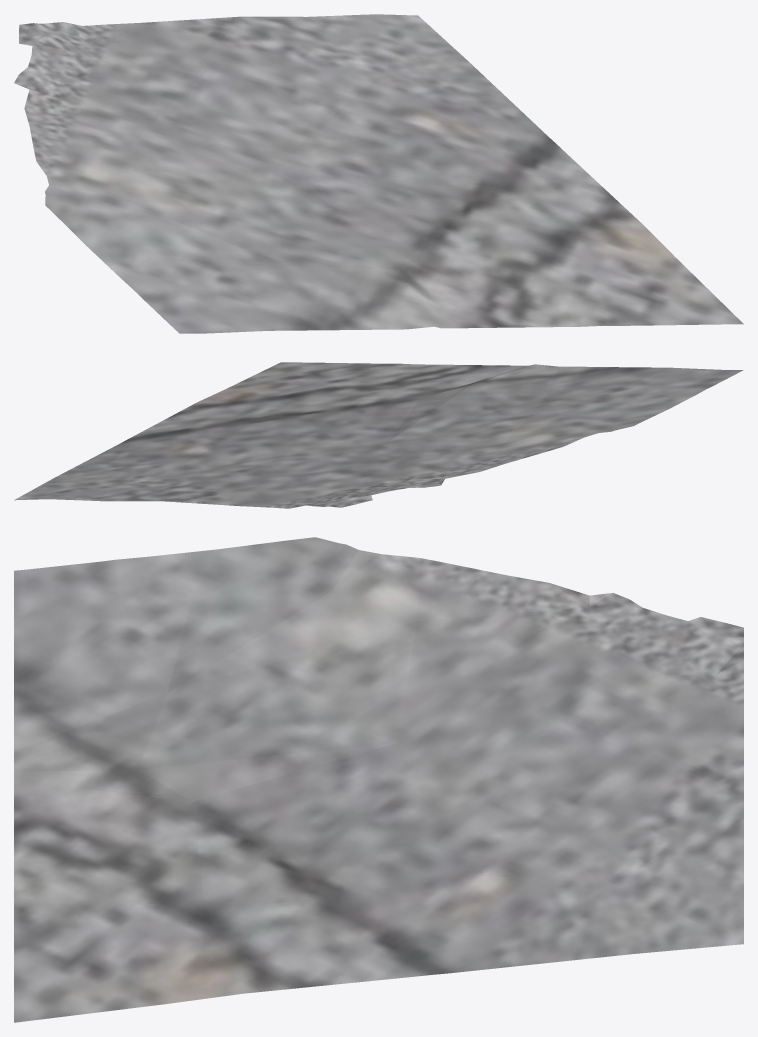
3 renders of one model, top to bottom at view 1: azimuth 30°, elevation 25°; view 2: azimuth 150°, elevation 25°; view 3: azimuth 270°, elevation 25°, orthographic. The views are drawn at different scales.
Bounding box in the file's own units: 0.8374 × 0.2242 × 0.8374.
3 materials, 3 textured.
